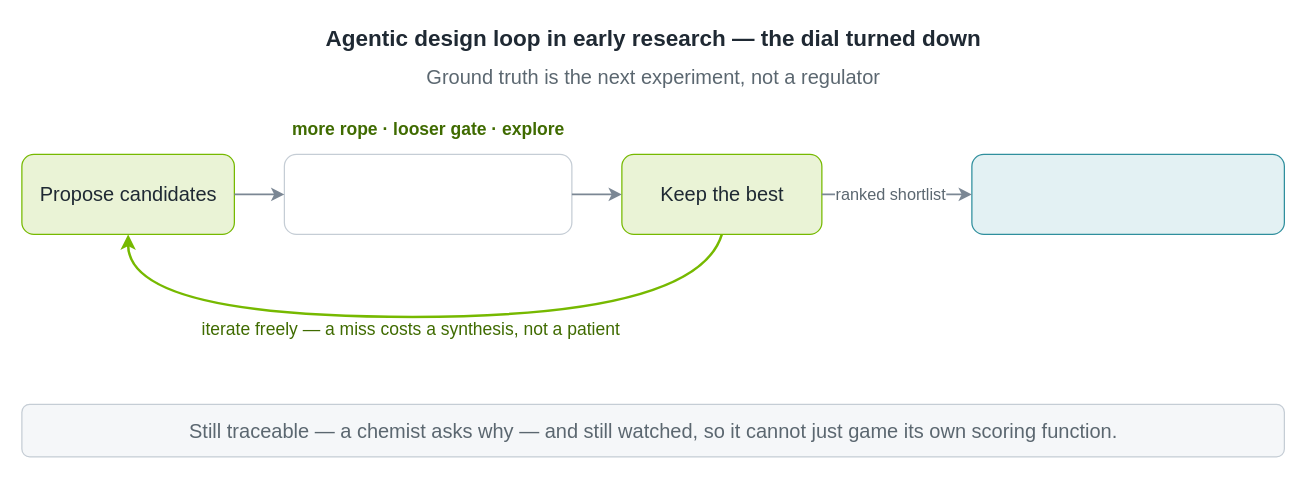
Image size: 1306x479. Some labels were removed from this diagram. The shapes that lost their labels are listed below. From the top down, each one's centre as x and y in pixels, then its label:
At (427,193): "Score vs. constraints drug-likeness · synthesis · off-targets".
At (1127,193): "Chemist · the assay decides a lighter human gate".
